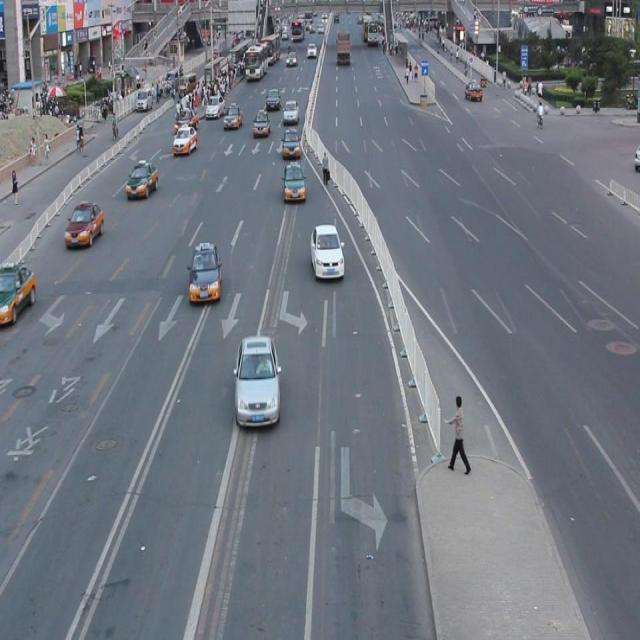car: (234, 334, 281, 429), (1, 261, 37, 324), (187, 241, 221, 305), (308, 222, 345, 280), (64, 200, 105, 248), (125, 159, 159, 201), (282, 160, 306, 206)
